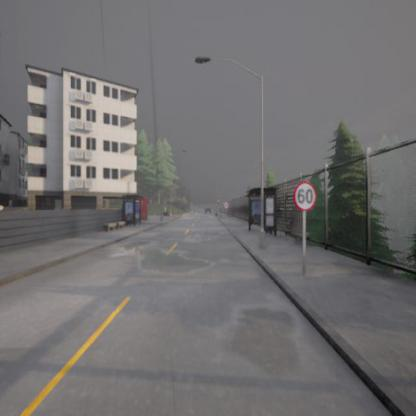traffic_sign_60: (293, 181, 317, 211)
